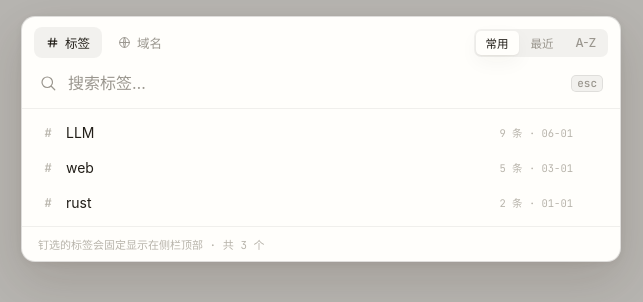
Test: BrowsePanel › 切到域名 tab 显示域名
Click the button "域名" at (140, 42), box [106,27,174,58]
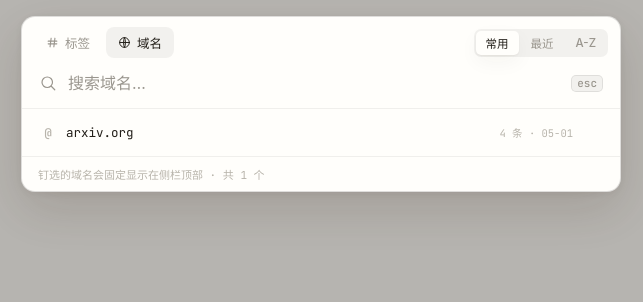
Now the text "arxiv.org" is shown, box [66,124,134,141]
